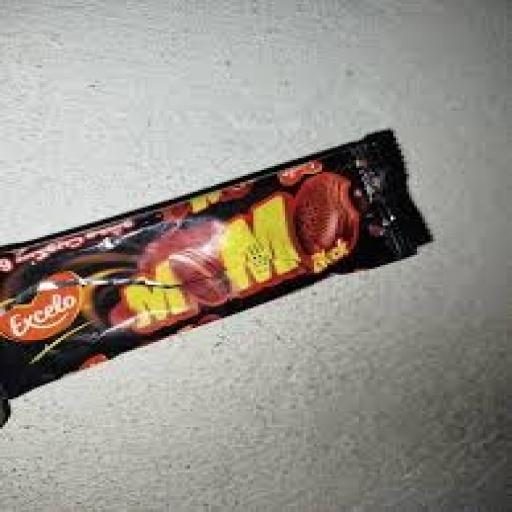MOMO: (7, 135, 450, 375)
